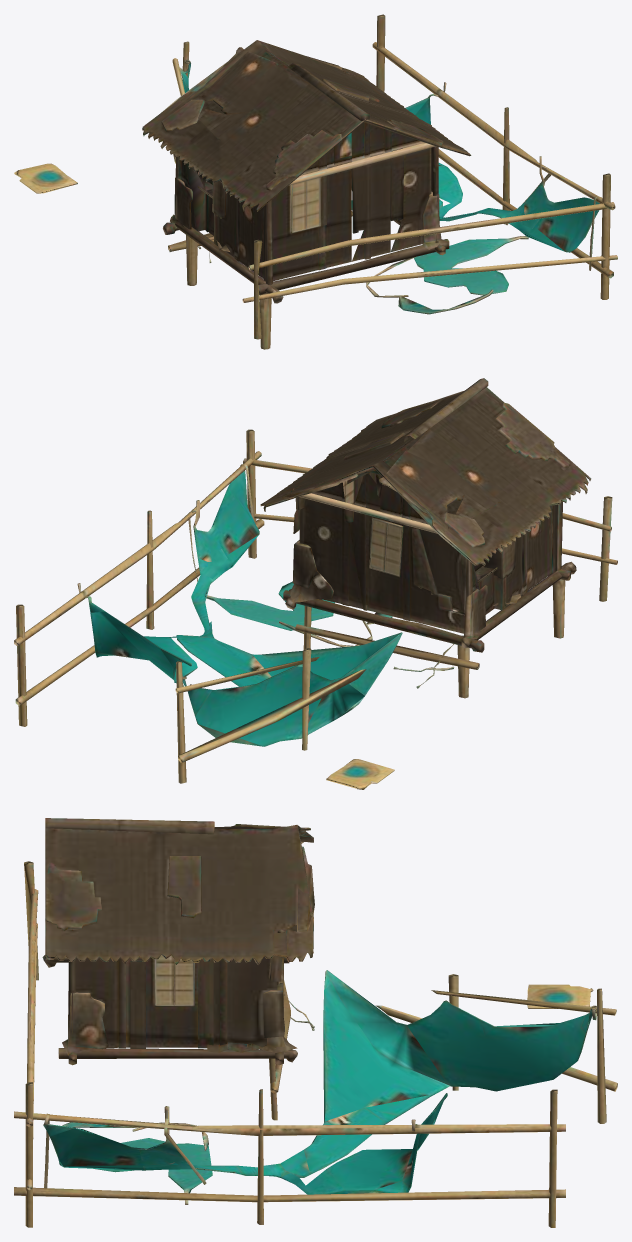
Rendered from fish_stakes.glb.
3 renders of one model, top to bottom at view 1: azimuth 30°, elevation 25°; view 2: azimuth 150°, elevation 25°; view 3: azimuth 270°, elevation 25°, orthographic. The views are drawn at different scales.
Parts seen in each view (by area): view 1: Body; view 2: Body; view 3: Body.
Part boxes in pixels (left/top/right/bottom): Body: left=14, top=14, right=617, bottom=349; Body: left=14, top=378, right=617, bottom=789; Body: left=14, top=818, right=617, bottom=1227.
Size of the model in its own units: 9.97 by 6.11 by 12.11.
Materials: 1 (1 with a texture image).
